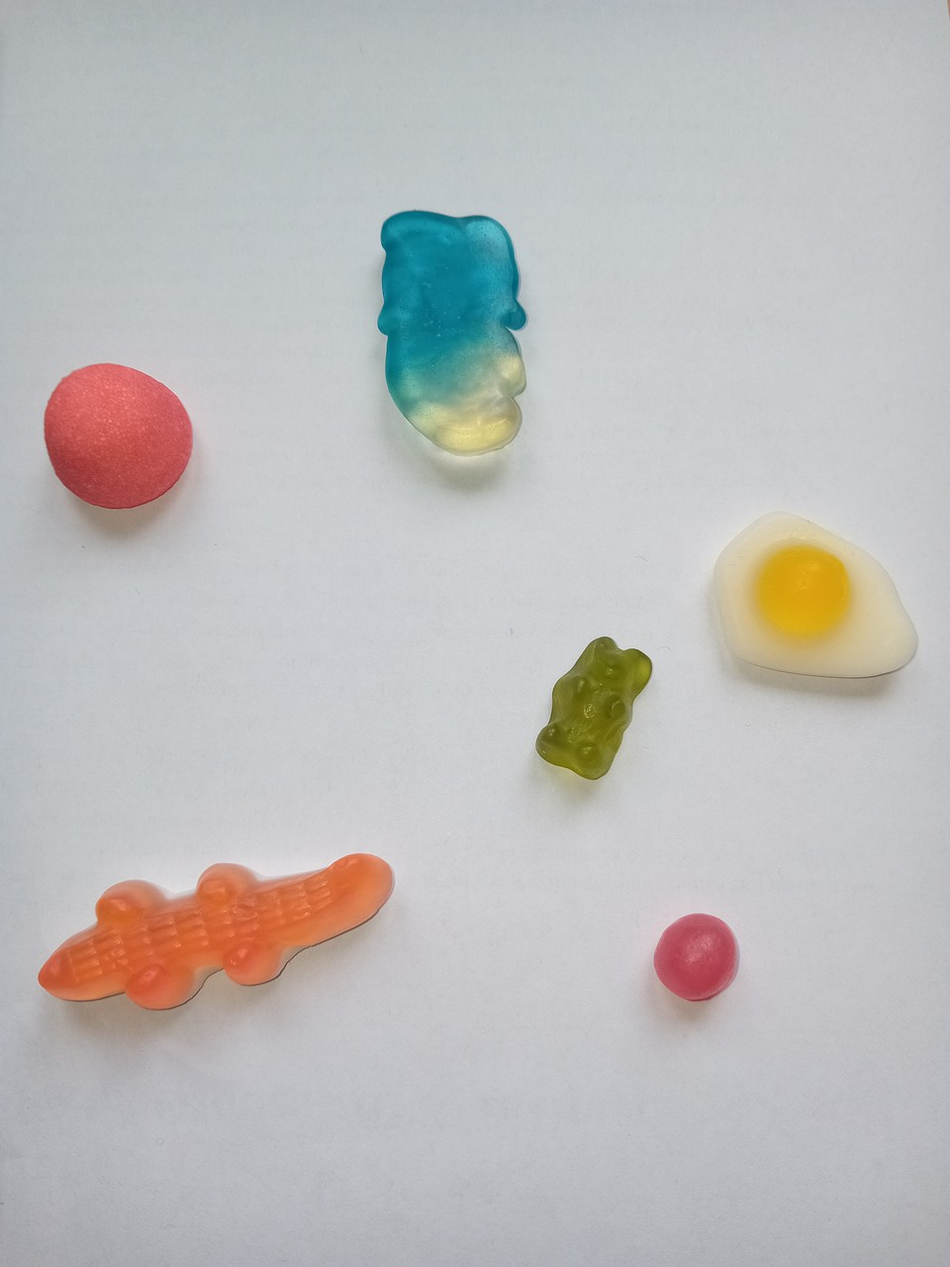crocodile_orange: (36, 840, 398, 1019)
dragibus_rouge: (648, 909, 743, 1002)
oeuf_oeuf: (707, 504, 925, 684)
ourson_vert: (529, 632, 653, 785)
schtroumpf_bleu-blanc: (371, 202, 538, 463)
tagada_fraise: (38, 353, 203, 517)
